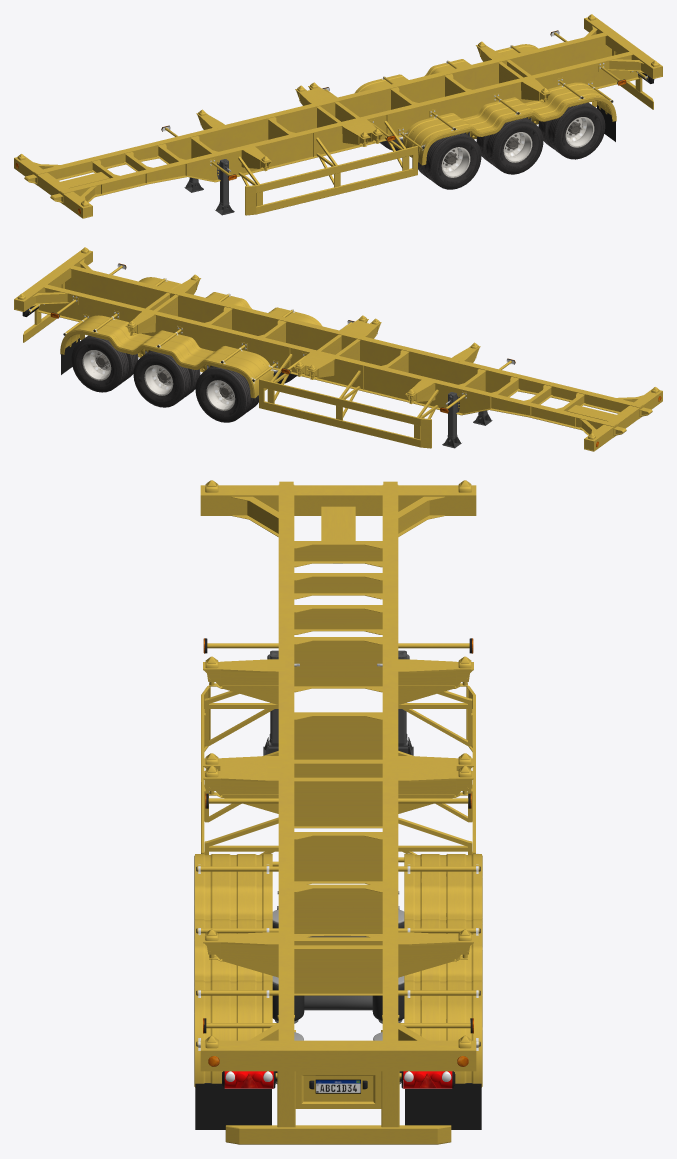
The model's file is container-trailer-chassis-empty-compressed.glb.
The picture shows the model from 3 angles, top to bottom: view 1: azimuth 30°, elevation 25°; view 2: azimuth 150°, elevation 25°; view 3: azimuth 270°, elevation 25°; orthographic projection. The views are drawn at different scales.
Parts seen in each view (by area): view 1: container_trailer_7, Plane.028_1, Plane.029_2, Plane.014_0; view 2: container_trailer_7, Plane.034_3, Plane.023_6, Plane.026_5; view 3: container_trailer_7, Plane.004_4.
Part boxes in pixels (x1,y1,x2,y2): container_trailer_7: [14, 14, 662, 218]; Plane.028_1: [476, 117, 543, 174]; Plane.029_2: [538, 102, 605, 159]; Plane.014_0: [418, 133, 481, 189]; container_trailer_7: [14, 247, 662, 451]; Plane.034_3: [133, 350, 200, 407]; Plane.023_6: [71, 335, 138, 392]; Plane.026_5: [195, 366, 258, 422]; container_trailer_7: [194, 480, 482, 1144]; Plane.004_4: [272, 891, 404, 1083].
Bounding box in the file's own units: 12.48 × 1.56 × 2.64.
Materials: 27 (9 with a texture image).
